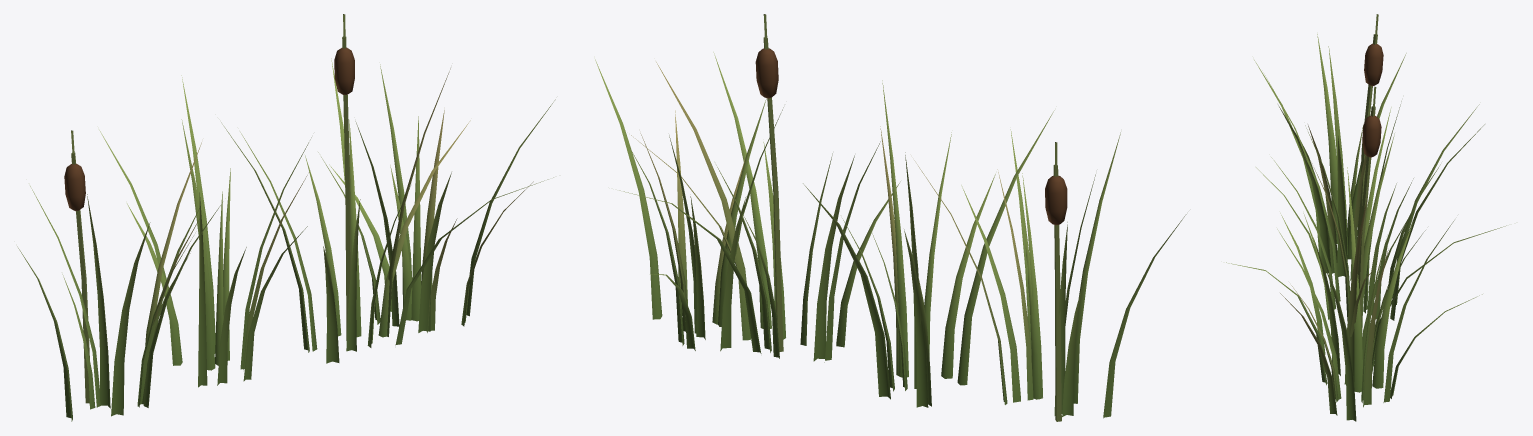
Rendered from reeds-c.glb.
3 renders of one model, left to right at view 1: azimuth 30°, elevation 25°; view 2: azimuth 150°, elevation 25°; view 3: azimuth 270°, elevation 25°, orthographic. The views are drawn at different scales.
Visible parts, largest first — view 1: reeds-c; view 2: reeds-c; view 3: reeds-c.
Part boxes in pixels (bbox=[...]): reeds-c: bbox=[17, 14, 555, 421]; reeds-c: bbox=[595, 14, 1186, 421]; reeds-c: bbox=[1226, 14, 1506, 421].
Size of the model in its own units: 2.6 by 1.44 by 1.37.
